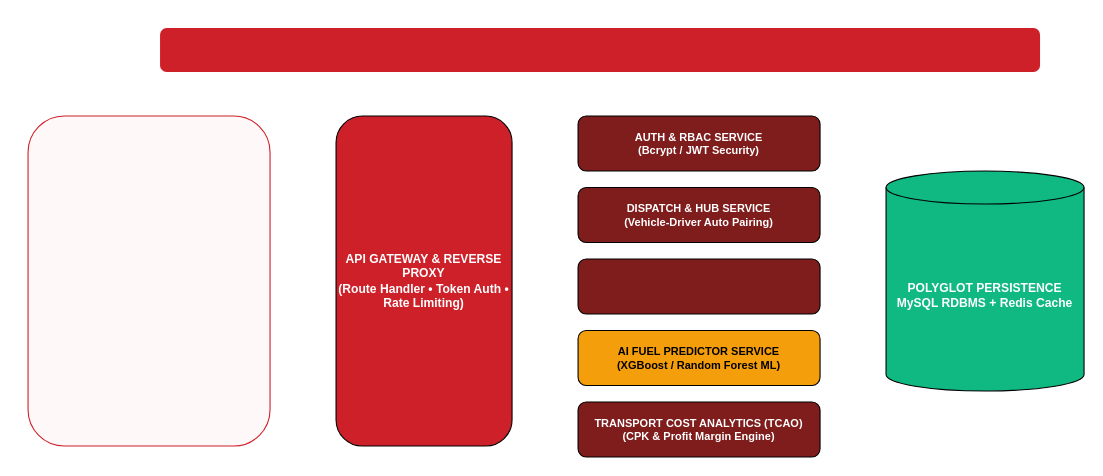
This 1103x476 diagram has some shape labels left out. The centre of each missing label's shape, as x and y in pixels:
CLIENT USERS & DEVICES (Admins, Dispatchers, Finance Officers, Drivers): point (148, 280)
FIGURE 3 & 10: HIRNA MOBILITY MICROSERVICES ARCHITECTURE & API GATEWAY: point (600, 50)
LEAFLET TELEMETRY SERVICE (Live GPS & Speeding Alerts): point (698, 286)
